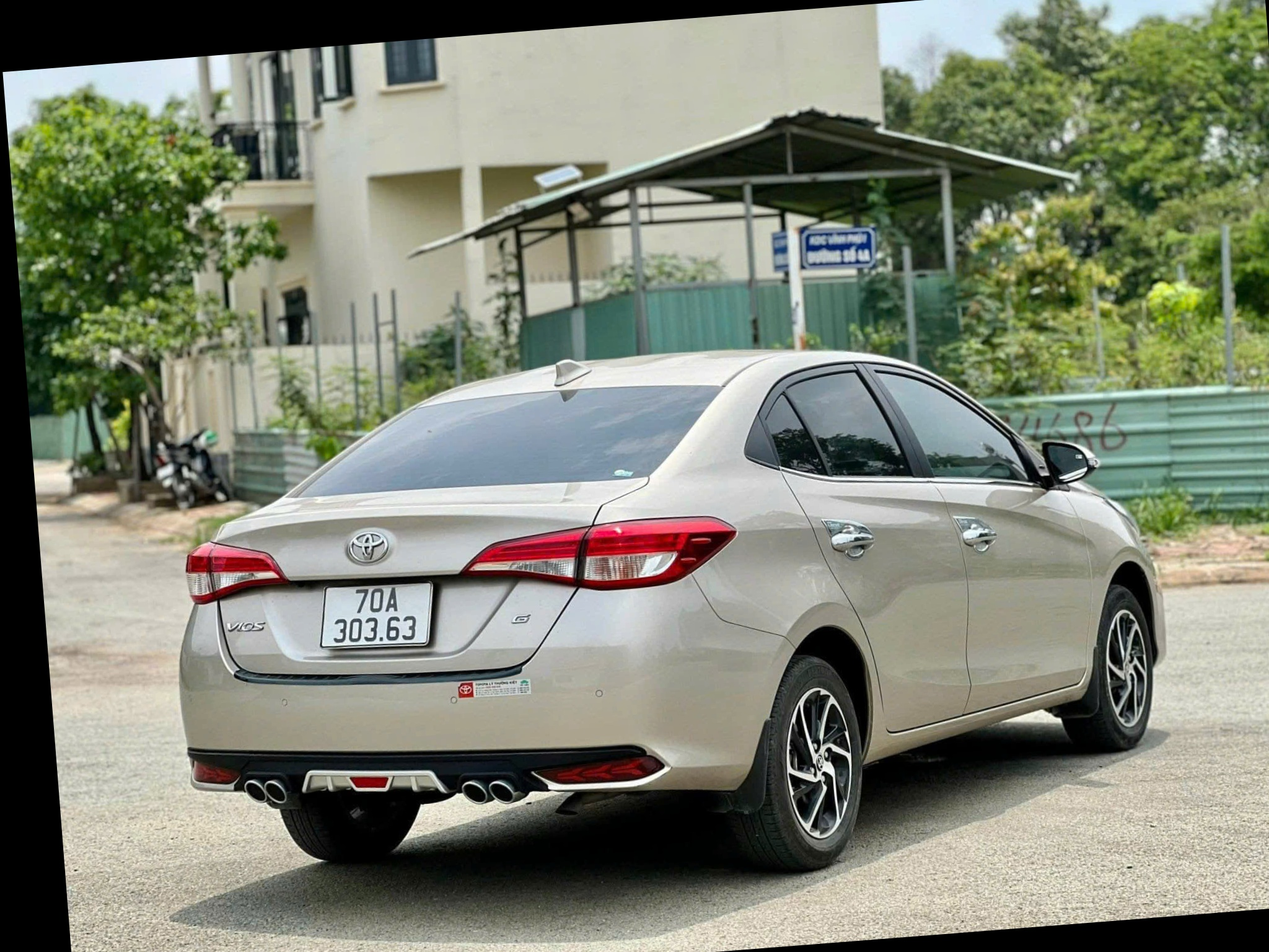Bien-so: (236, 578, 367, 668)
